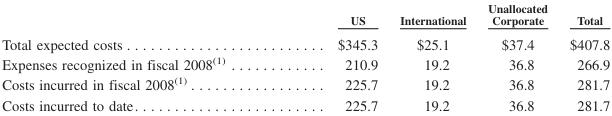table: (1, 1, 609, 113)
table column: (1, 1, 280, 113), (280, 1, 388, 113), (388, 1, 476, 113), (476, 1, 558, 113), (558, 1, 609, 113)
table column header: (1, 1, 609, 30)
table row: (1, 1, 609, 30), (1, 30, 609, 52), (1, 52, 609, 73), (1, 73, 609, 94), (1, 94, 609, 113)
